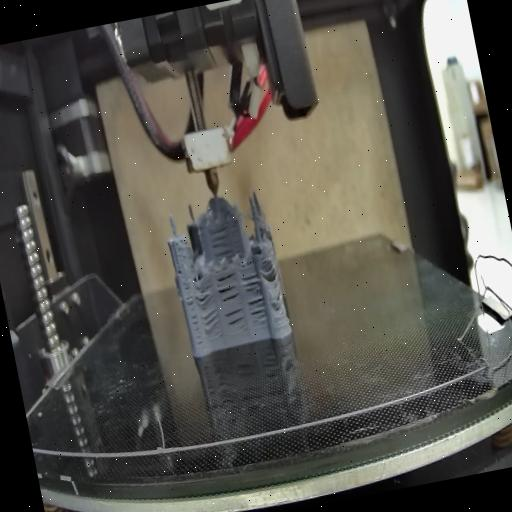cracks: (240, 272, 270, 330), (182, 285, 204, 349), (206, 221, 234, 258), (214, 274, 242, 305), (199, 304, 223, 338), (222, 304, 249, 332), (192, 278, 215, 304), (262, 257, 282, 286), (270, 290, 286, 316), (174, 258, 184, 278)
